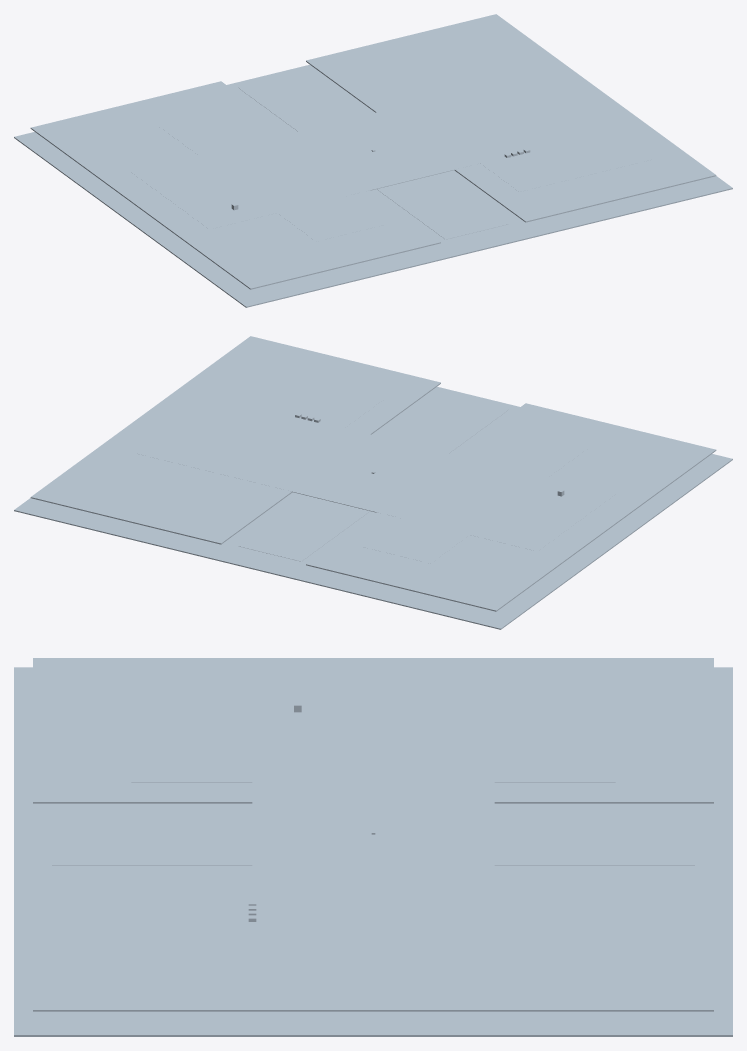
File: map.gltf
3 views of the same model, one above another, from view 1: azimuth 30°, elevation 25°; view 2: azimuth 150°, elevation 25°; view 3: azimuth 270°, elevation 25° (orthographic). The views are drawn at different scales.
Parts seen in each view (by area): view 1: obj_3, obj_4, obj_1, obj_2, road_m1_0_0, road_0_0_0, road_m2_1_0, road_m2_m2_0, road_m3_m1_0, road_2_1_0, road_2_m1_0, road_m2_0_0 (+8 smaller); view 2: obj_3, obj_4, obj_1, obj_2, road_m1_m1_0, road_0_m1_0, road_m2_m2_0, road_1_m1_0, road_m3_m1_0, road_m2_1_0, road_2_m1_0, road_2_0_0 (+8 smaller); view 3: obj_4, obj_3, obj_1, obj_2, road_2_0_0, road_2_1_0, road_2_m1_0, road_m2_0_0, road_m3_m1_0, road_1_m1_0, road_m2_1_0, road_m2_m1_0 (+8 smaller).
Boxes of the visible parts, x1=… form: obj_3: x1=30, y1=81, x2=440, y2=289; obj_4: x1=306, y1=14, x2=716, y2=222; obj_1: x1=14, y1=64, x2=732, y2=307; obj_2: x1=238, y1=72, x2=508, y2=239; road_m1_0_0: x1=306, y1=151, x2=412, y2=196; road_0_0_0: x1=374, y1=135, x2=479, y2=180; road_m2_1_0: x1=277, y1=196, x2=383, y2=241; road_m2_m2_0: x1=160, y1=110, x2=266, y2=155; road_m3_m1_0: x1=131, y1=156, x2=237, y2=200; road_2_1_0: x1=548, y1=130, x2=654, y2=175; road_2_m1_0: x1=470, y1=73, x2=576, y2=117; road_m2_0_0: x1=238, y1=168, x2=344, y2=212; obj_3: x1=306, y1=403, x2=716, y2=611; obj_4: x1=30, y1=336, x2=440, y2=544; obj_1: x1=14, y1=386, x2=732, y2=629; obj_2: x1=238, y1=394, x2=508, y2=561; road_m1_m1_0: x1=334, y1=473, x2=440, y2=518; road_0_m1_0: x1=267, y1=457, x2=372, y2=502; road_m2_m2_0: x1=363, y1=518, x2=469, y2=563; road_1_m1_0: x1=199, y1=440, x2=305, y2=485; road_m3_m1_0: x1=470, y1=506, x2=575, y2=551; road_m2_1_0: x1=480, y1=432, x2=586, y2=477; road_2_m1_0: x1=131, y1=424, x2=237, y2=468; road_2_0_0: x1=170, y1=395, x2=276, y2=439; obj_4: x1=33, y1=866, x2=713, y2=1011; obj_3: x1=33, y1=658, x2=713, y2=803; obj_1: x1=14, y1=667, x2=732, y2=1036; obj_2: x1=52, y1=817, x2=694, y2=865; road_2_0_0: x1=252, y1=936, x2=373, y2=987; road_2_1_0: x1=131, y1=936, x2=252, y2=987; road_2_m1_0: x1=373, y1=936, x2=494, y2=987; road_m2_0_0: x1=252, y1=731, x2=373, y2=782; road_m3_m1_0: x1=373, y1=680, x2=494, y2=731; road_1_m1_0: x1=373, y1=885, x2=494, y2=936; road_m2_1_0: x1=131, y1=731, x2=252, y2=782; road_m2_m1_0: x1=373, y1=731, x2=494, y2=782.
Bounding box in the file's own units: 230 × 7.5 × 190.
